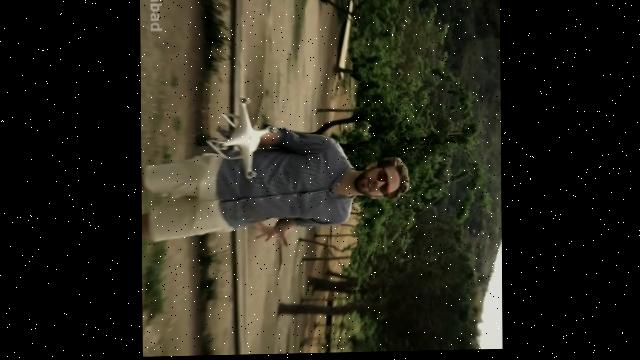drone: (207, 96, 279, 179)
